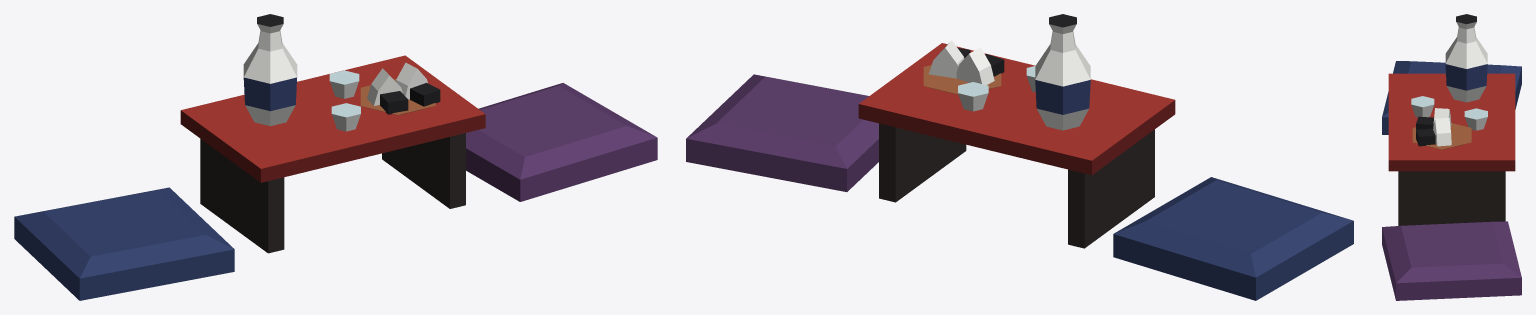
Rendered from sake_table.fbx.
The picture shows the model from 3 angles, left to right: view 1: azimuth 30°, elevation 25°; view 2: azimuth 150°, elevation 25°; view 3: azimuth 270°, elevation 25°; orthographic projection. The views are drawn at different scales.
Visible parts, largest first — view 1: sake_table; view 2: sake_table; view 3: sake_table.
Boxes of the visible parts, x1,y1,x2,y2 form: sake_table: [14, 14, 657, 300]; sake_table: [686, 14, 1353, 300]; sake_table: [1382, 14, 1521, 300].
Size of the model in its own units: 2.16 by 0.68 by 0.5746.
